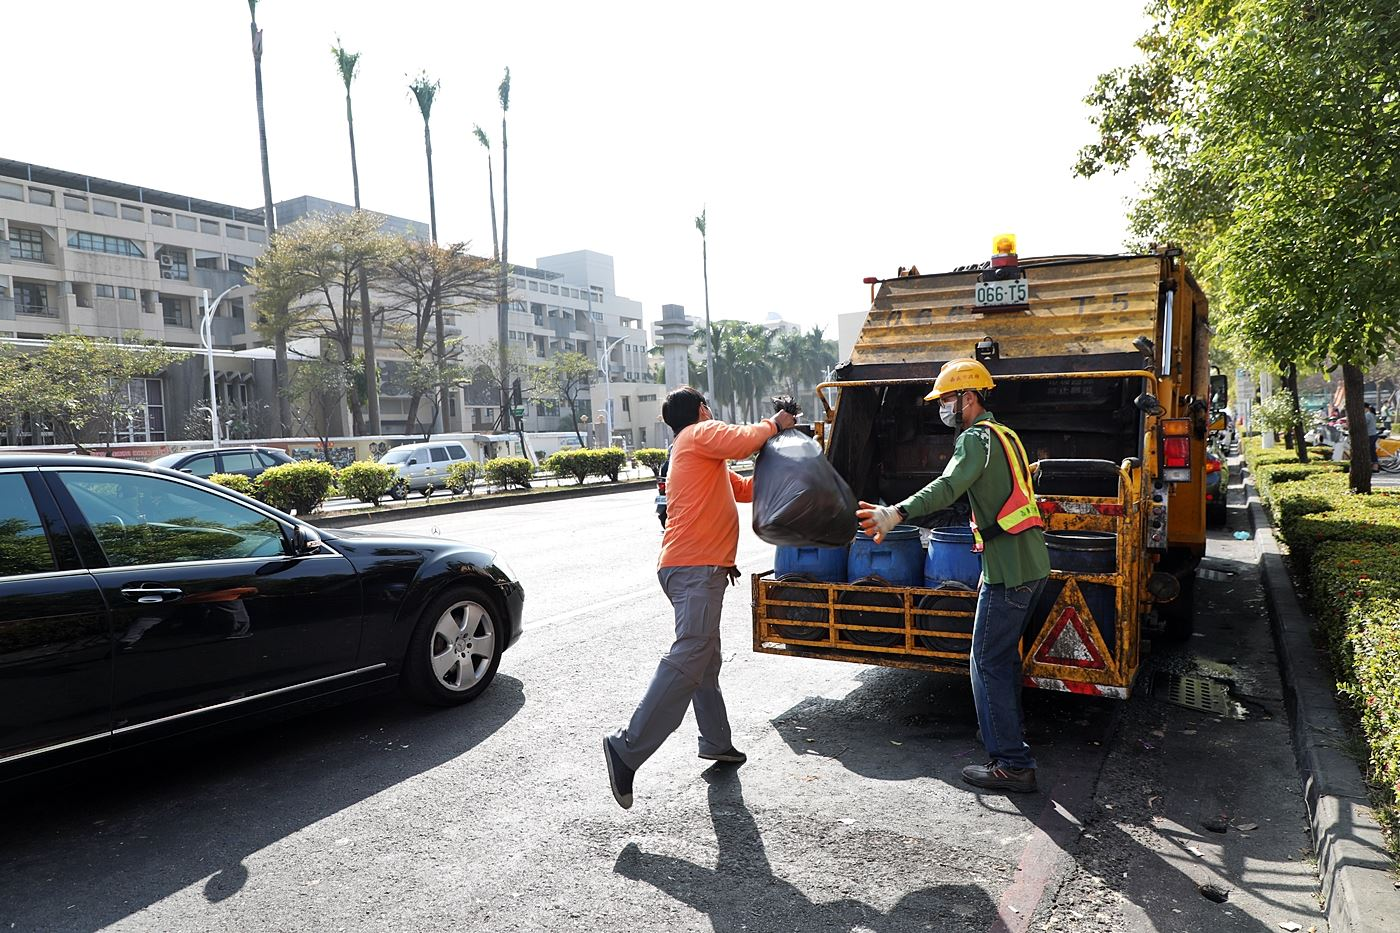garbagetruck: (426, 173, 1246, 774)
